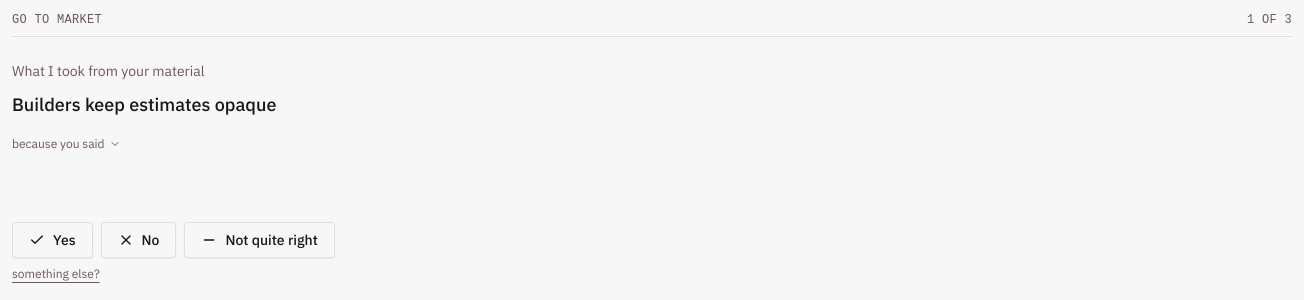
it: ReviewPass › keeps the receipt collapsed until asked for
Expected: the text "provisional sum" is not shown
Step 1. Click the button "because you said" → (66, 144), box [12,136,121,152]
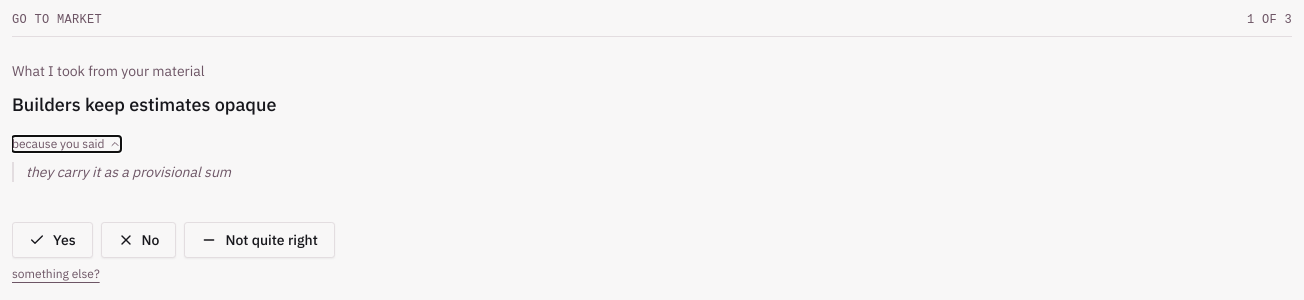
Result: the text "they carry it as a provisional sum" is shown at [12,162,1292,182]
